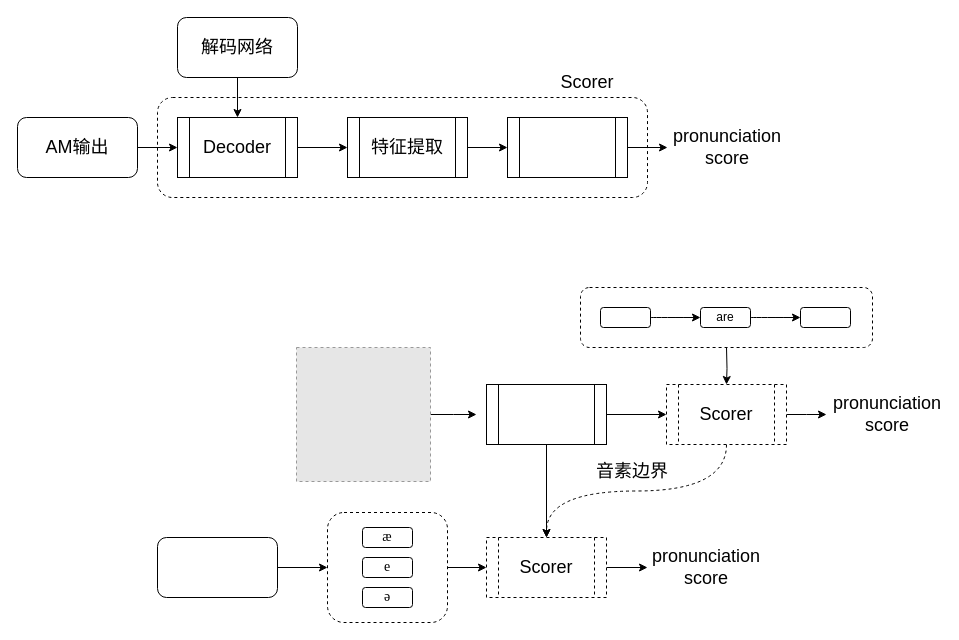
The diagram is 959 pixels wide and 640 high, and some of its shapes have lost their labels. Grey dashed boxes stand in for pictures. Here are the shapes that lost their labels. From the top down, the centre of each, then its label:
At point 567,147: "Score Model".
At point 625,317: "how".
At point 825,317: "you".
At point 546,414: "Acoustic Model".
At point 217,567: "competing phones".
